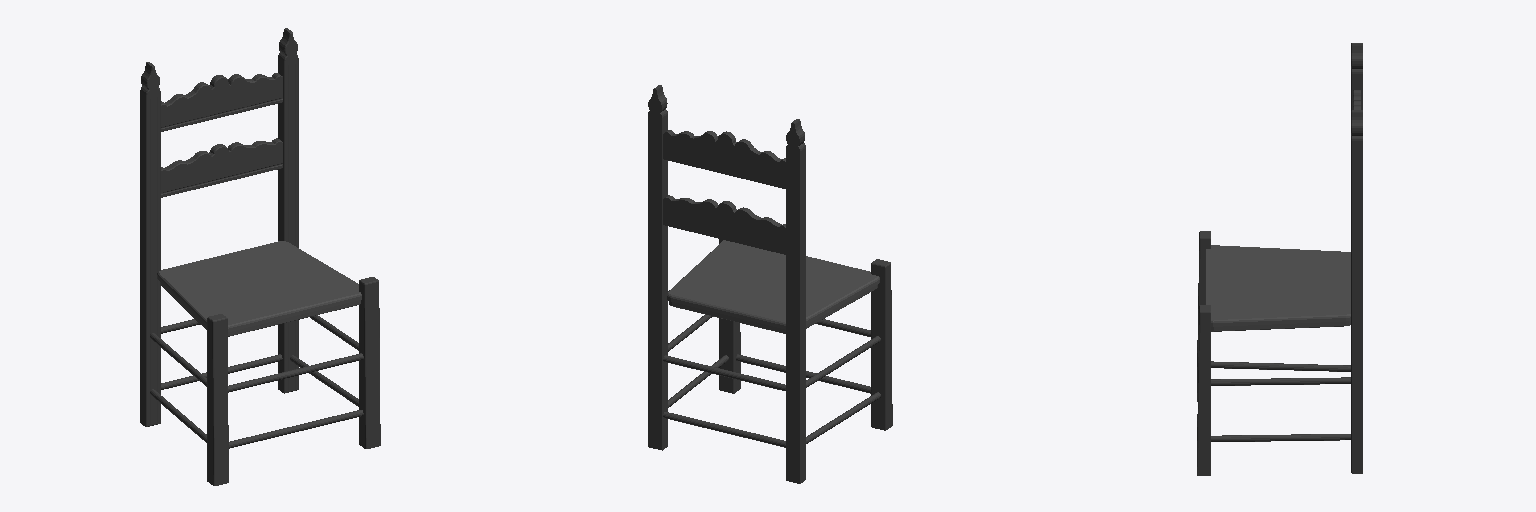
Rendered from cadeira2.obj.
3 renders of one model, left to right at view 1: azimuth 30°, elevation 25°; view 2: azimuth 150°, elevation 25°; view 3: azimuth 270°, elevation 25°, orthographic.
Bounding box in the file's own units: 1.41 × 2.91 × 1.23.